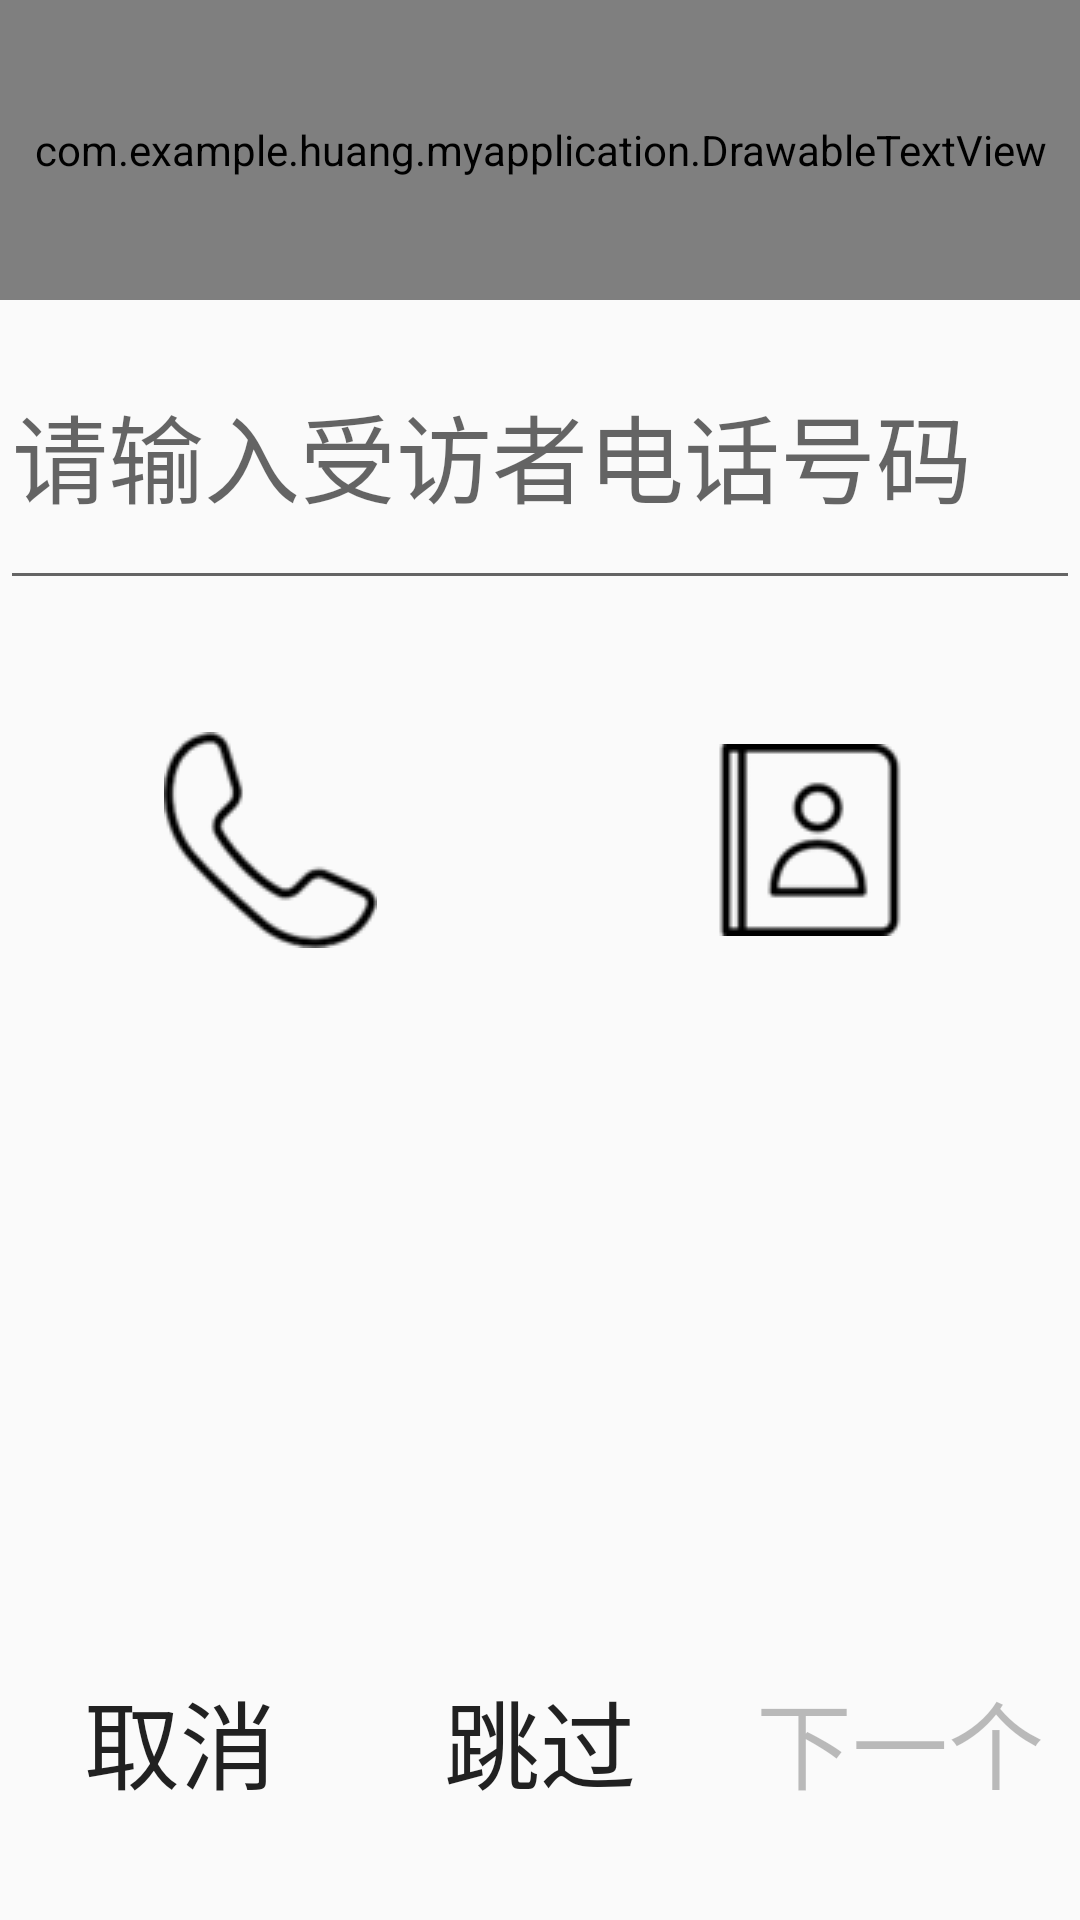

Where to tap for icons on this 1080*1920 app screen, as point (x, y):
address book: point (810, 840)
call: point (270, 840)
